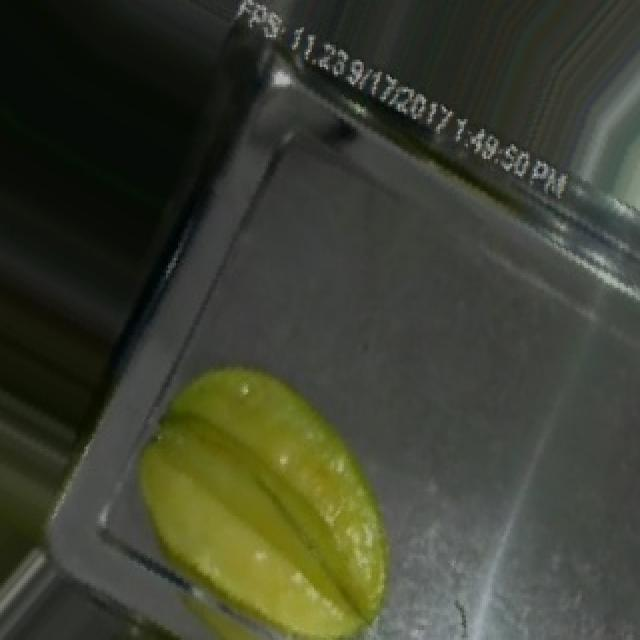fruit: (86, 305, 460, 640)
